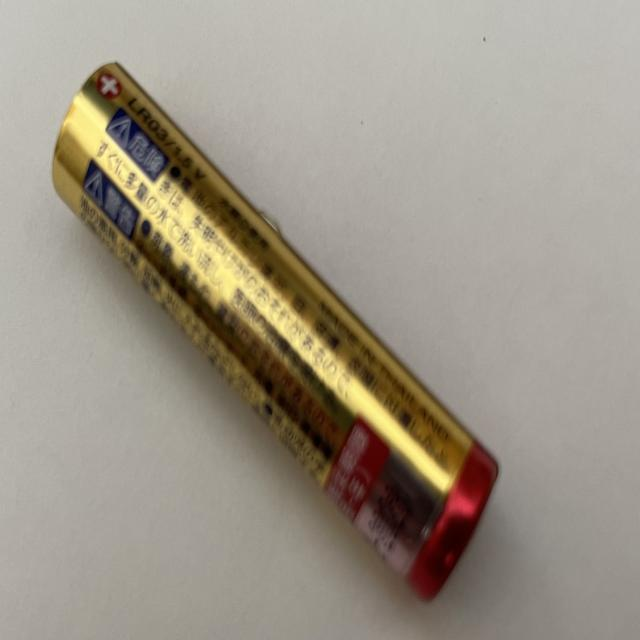hazardous waste: (48, 60, 502, 602)
